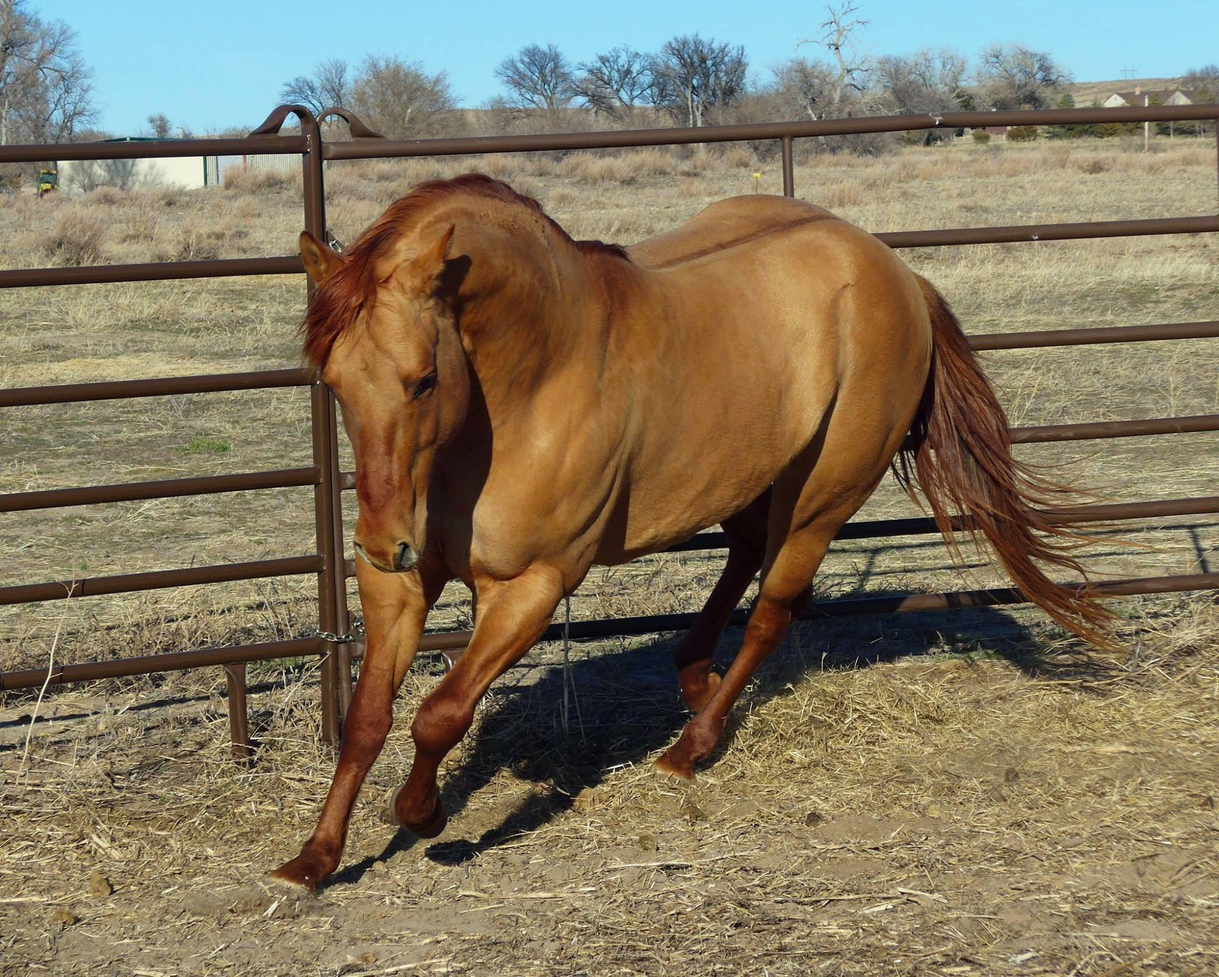horse: (266, 171, 1124, 893)
